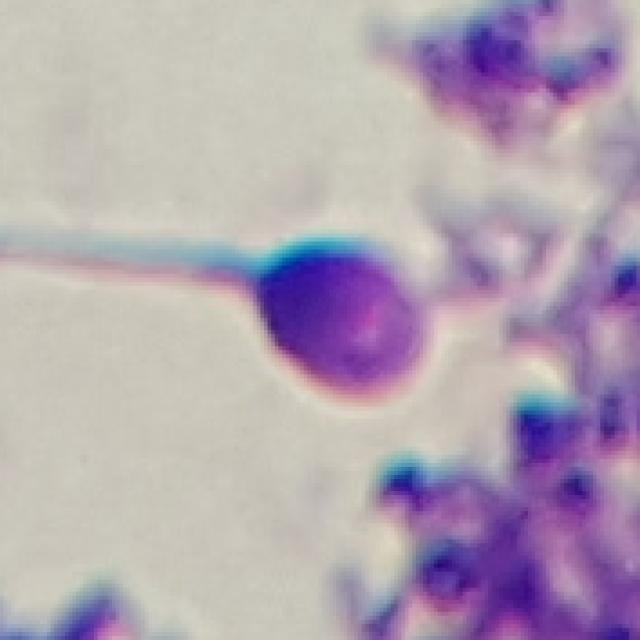normal sperm: (136, 235, 431, 407)
